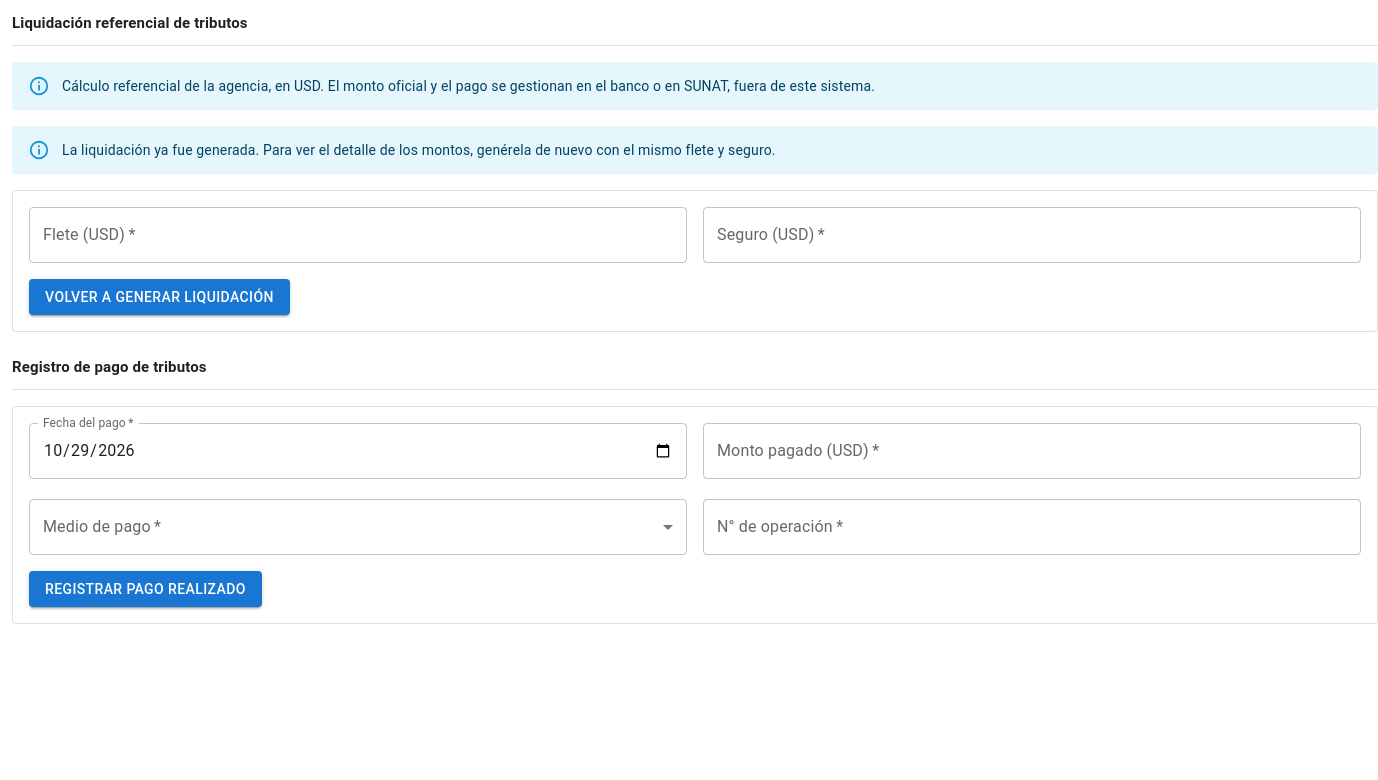
Test: LiquidacionDespacho (HU-08) › rechaza una fecha de pago futura antes de enviar
The image size is (1378, 780).
Type "2999-01-01" into the date field labelled "Fecha del pago *". click: (358, 450)
box: [29,422,687,478]
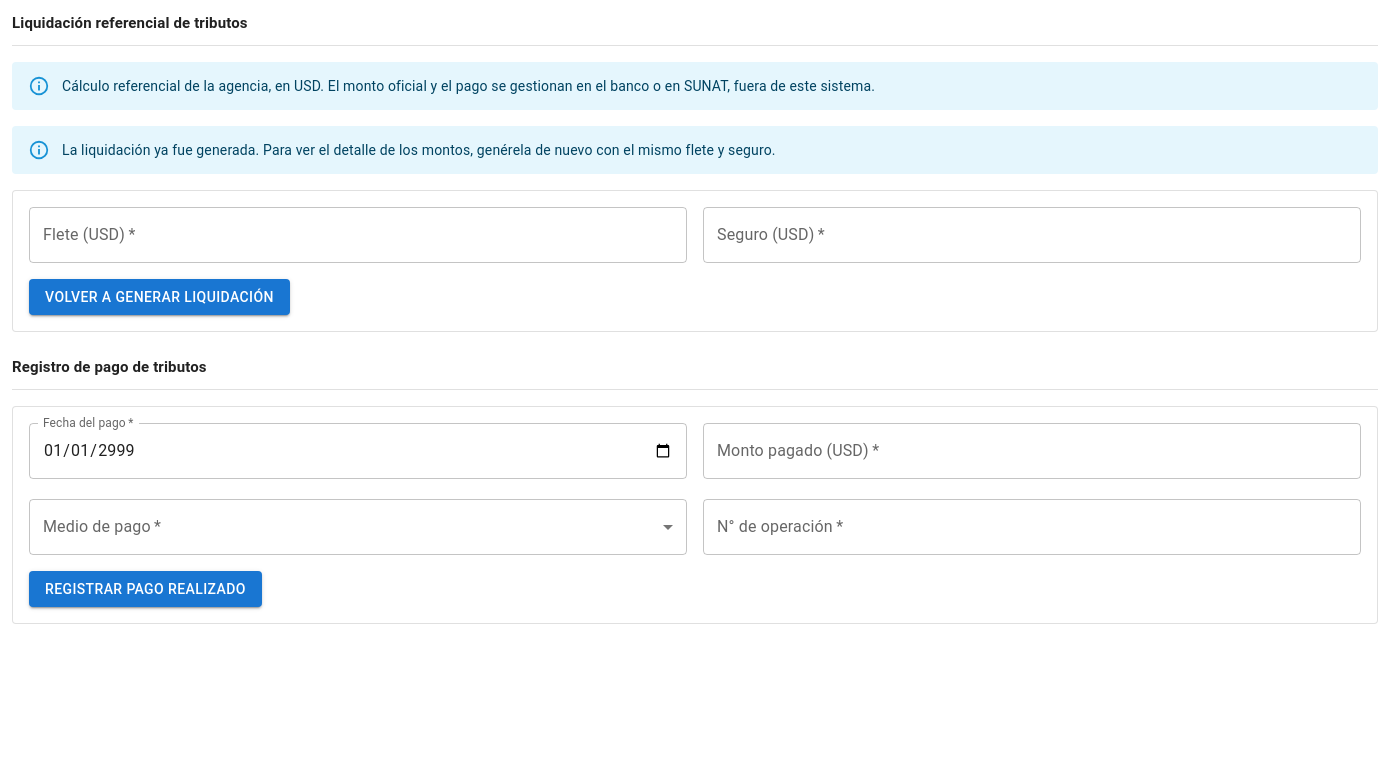
Click the button "Registrar pago realizado". click: (145, 589)
box: [29,570,262,607]
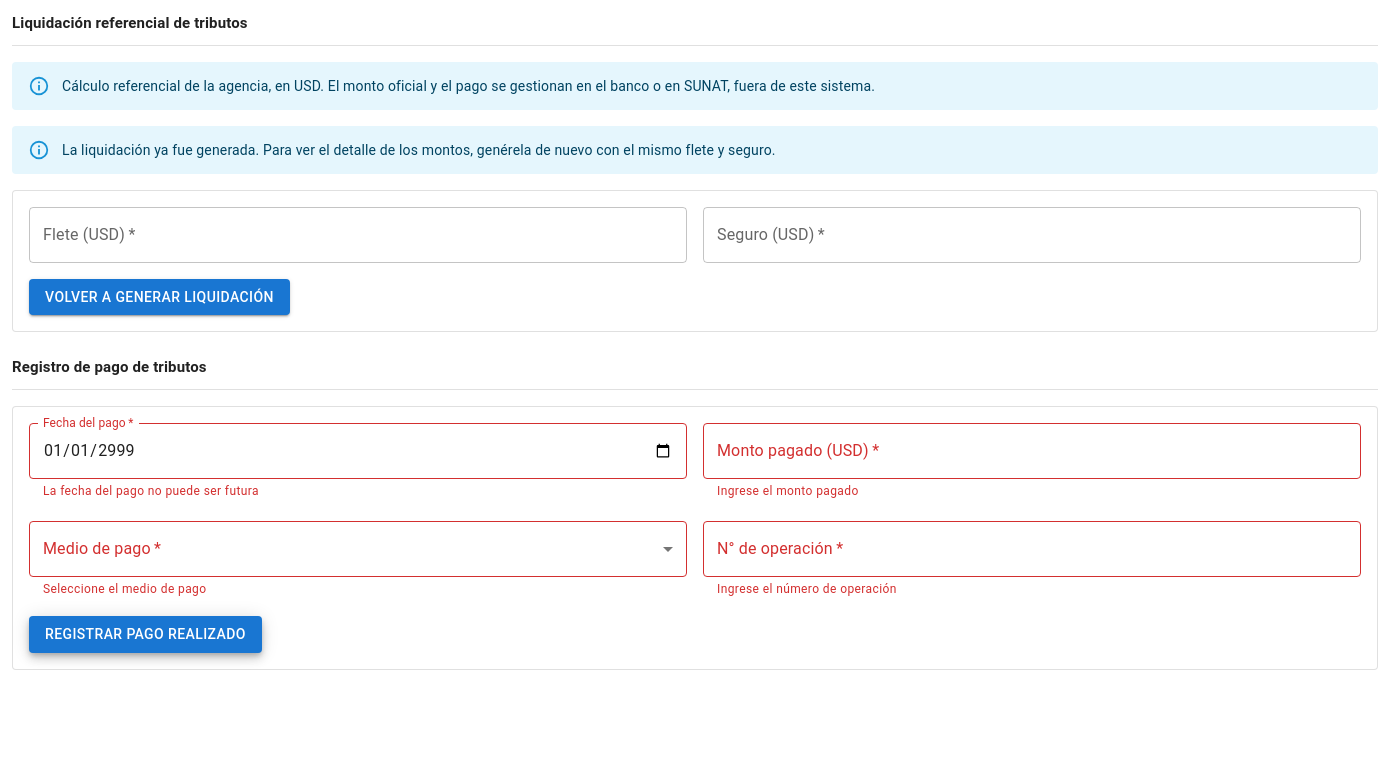
Now the text "La fecha del pago no puede ser futura" is shown, box [43,484,259,498]
